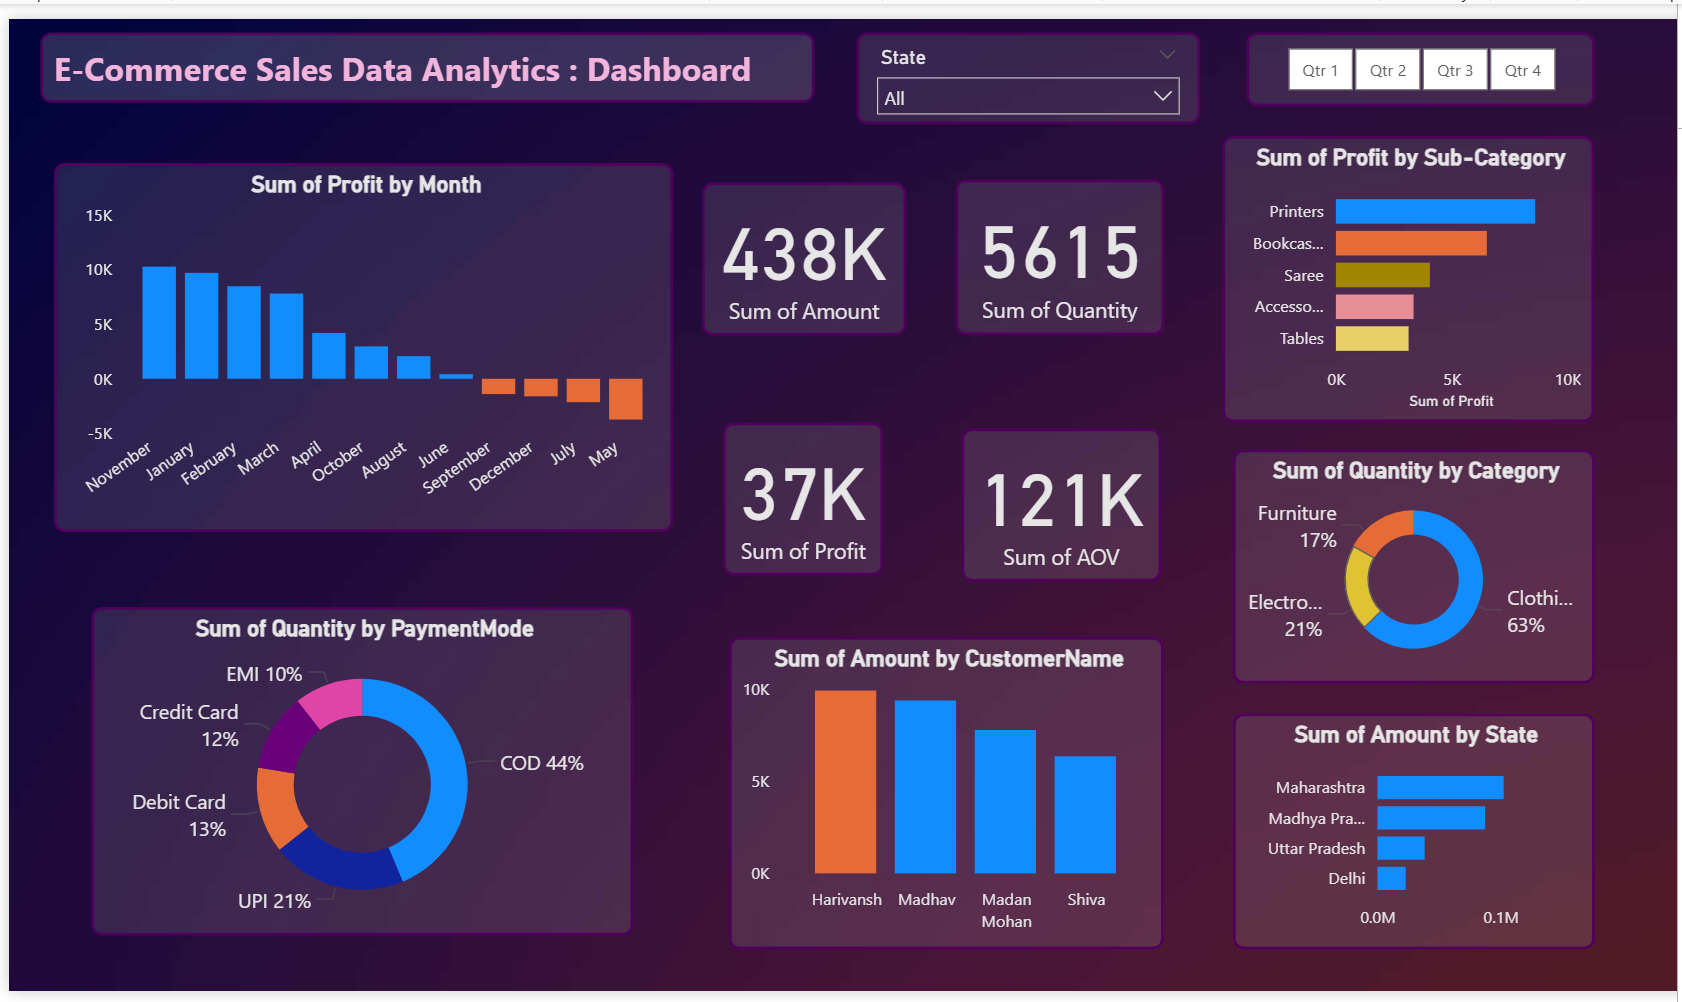

This screenshot's page, from the dashboard's own definition file:
{"tool":"powerbi","page":{"name":"Page 1","canvas":[1280,720],"ordinal":0},"visuals":[{"type":"textbox","box":[23.3,10,573.3,52.2],"z":0},{"type":"columnChart","fields":{"Category":["Orders.Order Date.Variation.Date Hierarchy.Month"],"Y":["Details.Profit"]},"box":[33.3,106.7,458.9,273.3],"z":1000},{"type":"barChart","fields":{"Category":["Details.Sub-Category"],"Y":["Details.Profit"]},"box":[898.9,86.7,275.6,212.2],"z":2000},{"type":"donutChart","fields":{"Category":["Details.Category"],"Y":["Details.Quantity"]},"box":[906.7,318.9,267.8,173.3],"z":3000},{"type":"donutChart","fields":{"Y":["Details.Quantity"],"Category":["Details.PaymentMode"]},"box":[61.1,435.6,401.1,243.3],"z":4000},{"type":"card","fields":{"Values":["Details.Amount"]},"box":[513.3,121.1,151.1,113.3],"z":5000},{"type":"card","fields":{"Values":["Details.Quantity"]},"box":[701.1,118.9,154.4,115.6],"z":6000},{"type":"card","fields":{"Values":["Details.Profit"]},"box":[528.9,298.9,118.9,113.3],"z":7000},{"type":"card","fields":{"Values":["Details.AOV"]},"box":[705.6,303.3,147.8,113.3],"z":8000},{"type":"barChart","fields":{"Category":["Orders.State","Details.Sub-Category"],"Y":["Details.Amount"]},"box":[906.7,514.4,267.8,174.4],"z":9000},{"type":"columnChart","fields":{"Category":["Orders.CustomerName"],"Y":["Details.Amount"]},"box":[533.3,457.8,322.2,231.1],"z":10000},{"type":"slicer","fields":{"Values":["Orders.Order Date.Variation.Date Hierarchy.Quarter"]},"box":[916.7,10,257.8,54.4],"z":11000},{"type":"slicer","fields":{"Values":["Orders.State"]},"box":[627.8,10,254.4,67.8],"z":12000}]}

Visuals, with their boxes on the page's 1280x720 design canvas (x1, y1, x2, y2). These are canvas units, not pixel positions in the 1682x1002 screenshot, which may show the page scaled, cropped or inside an application window:
textbox: <bbox>23, 10, 597, 62</bbox>
columnChart - Orders.Order Date.Variation.Date Hierarchy.Month x Details.Profit: <bbox>33, 107, 492, 380</bbox>
barChart - Details.Sub-Category x Details.Profit: <bbox>899, 87, 1174, 299</bbox>
donutChart - Details.Category x Details.Quantity: <bbox>907, 319, 1174, 492</bbox>
donutChart - Details.Quantity x Details.PaymentMode: <bbox>61, 436, 462, 679</bbox>
card - Details.Amount: <bbox>513, 121, 664, 234</bbox>
card - Details.Quantity: <bbox>701, 119, 856, 234</bbox>
card - Details.Profit: <bbox>529, 299, 648, 412</bbox>
card - Details.AOV: <bbox>706, 303, 853, 417</bbox>
barChart - Orders.State x Details.Sub-Category: <bbox>907, 514, 1174, 689</bbox>
columnChart - Orders.CustomerName x Details.Amount: <bbox>533, 458, 856, 689</bbox>
slicer - Orders.Order Date.Variation.Date Hierarchy.Quarter: <bbox>917, 10, 1174, 64</bbox>
slicer - Orders.State: <bbox>628, 10, 882, 78</bbox>
